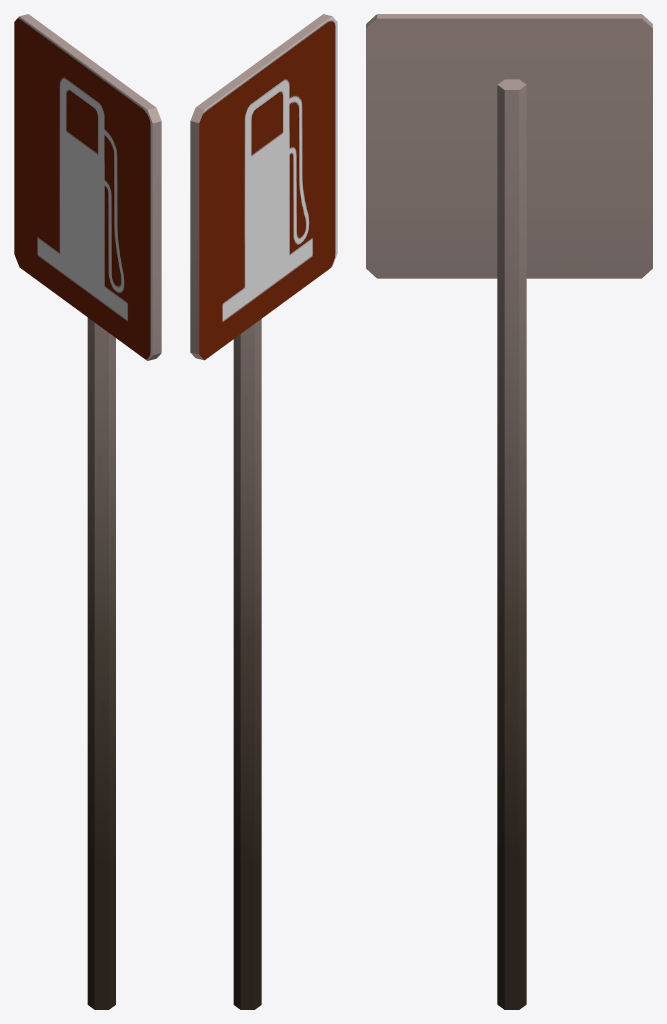
Rendered from Sing1.fbx.
3 views of the same model, side by side, from view 1: azimuth 30°, elevation 25°; view 2: azimuth 150°, elevation 25°; view 3: azimuth 270°, elevation 25° (orthographic). The views are drawn at different scales.
Visible parts, largest first — view 1: Circle.011, Circle.010; view 2: Circle.011, Circle.010; view 3: Circle.011, Circle.010.
Boxes of the visible parts, x1=… form: Circle.011: x1=14, y1=16, x2=152, y2=360; Circle.010: x1=20, y1=14, x2=161, y2=1009; Circle.011: x1=199, y1=16, x2=337, y2=360; Circle.010: x1=190, y1=14, x2=331, y2=1009; Circle.011: x1=366, y1=18, x2=652, y2=278; Circle.010: x1=366, y1=14, x2=652, y2=1009.
Bounding box in the file's own units: 12.35 × 370 × 98.17.
